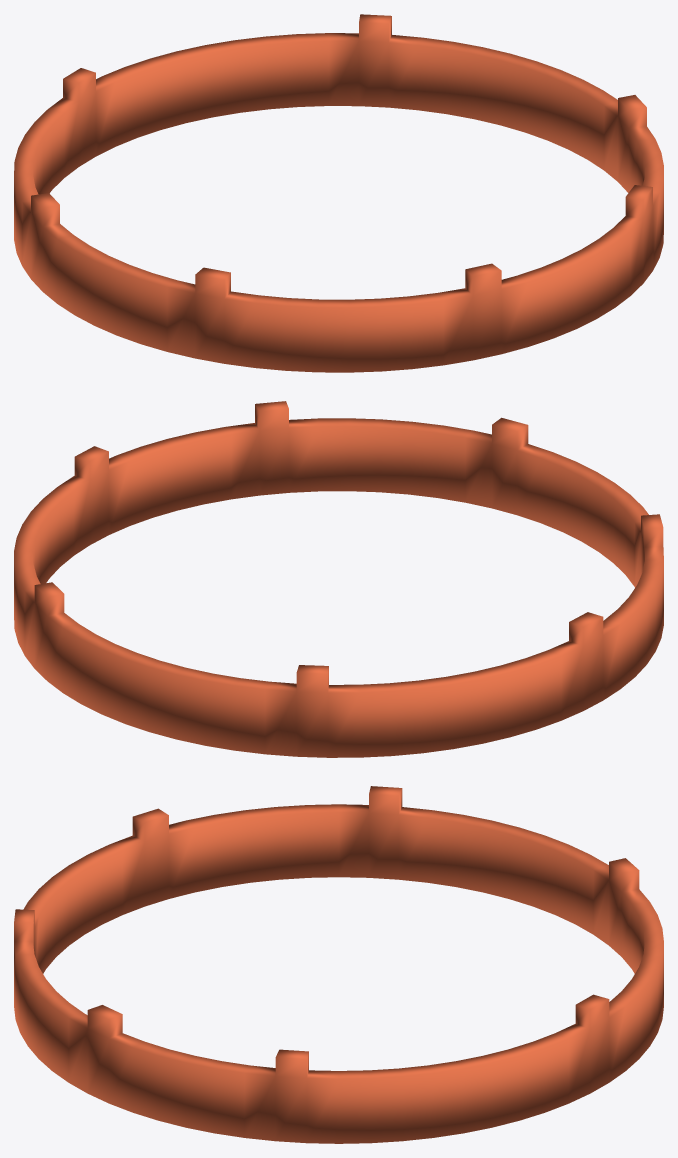
Rendered from Environment.glb.
The picture shows the model from 3 angles, top to bottom: view 1: azimuth 30°, elevation 25°; view 2: azimuth 150°, elevation 25°; view 3: azimuth 270°, elevation 25°; orthographic projection.
Visible parts, largest first — view 1: Environment; view 2: Environment; view 3: Environment.
Boxes of the visible parts, x1,y1,x2,y2 form: Environment: (14,14,663,372); Environment: (14,401,663,757); Environment: (14,786,663,1143).
Size of the model in its own units: 19.95 by 2.84 by 19.95.
